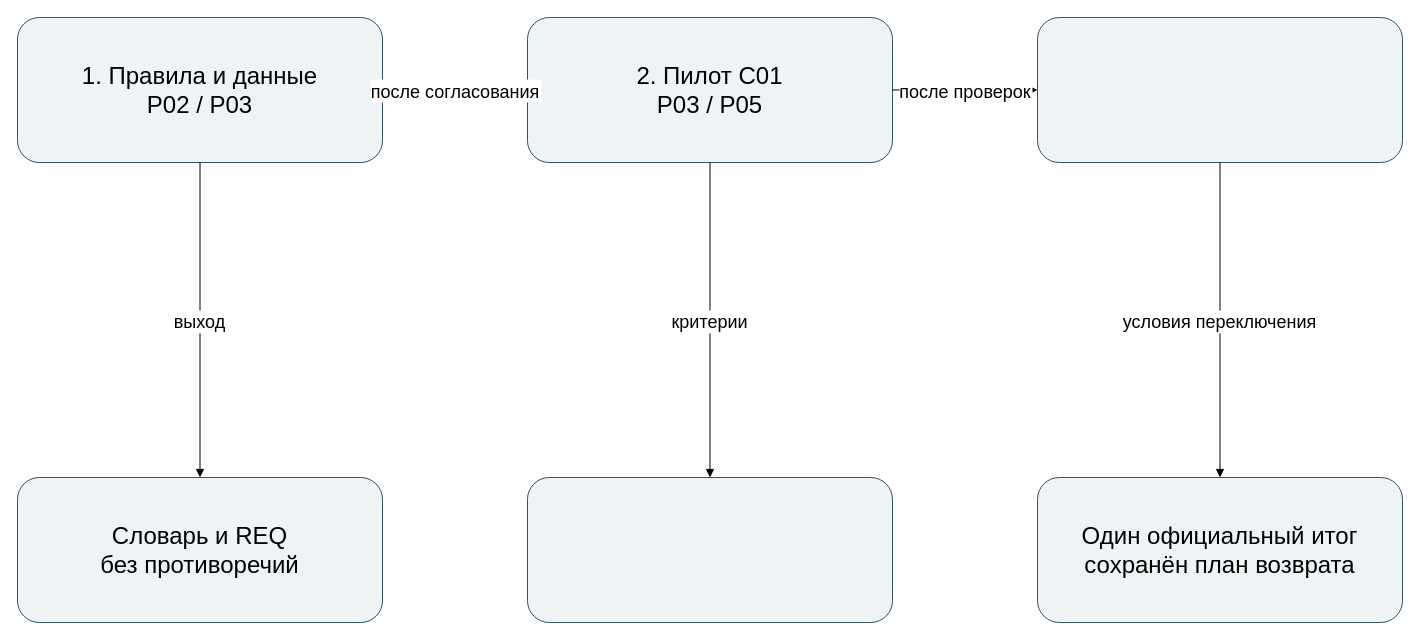
Image size: 1420x640. Some labels were removed from this diagram. Each missing label, with the centre of its shape:
3. Приёмка Р04: pixel 1219 89
Правило, права, сеть и восстановление: pixel 709 549
